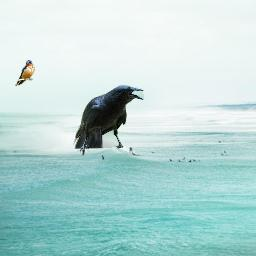Crow: (73, 85, 144, 156)
Swallow: (15, 60, 35, 86)
